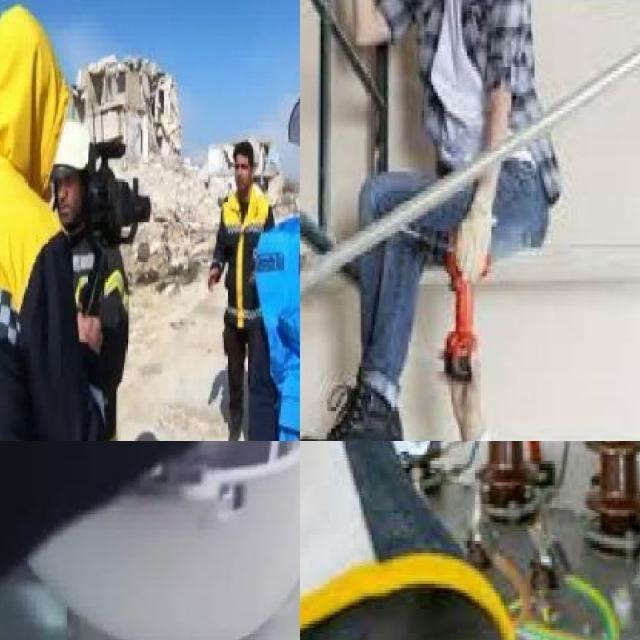apron: (300, 441, 389, 565), (450, 183, 501, 283)
